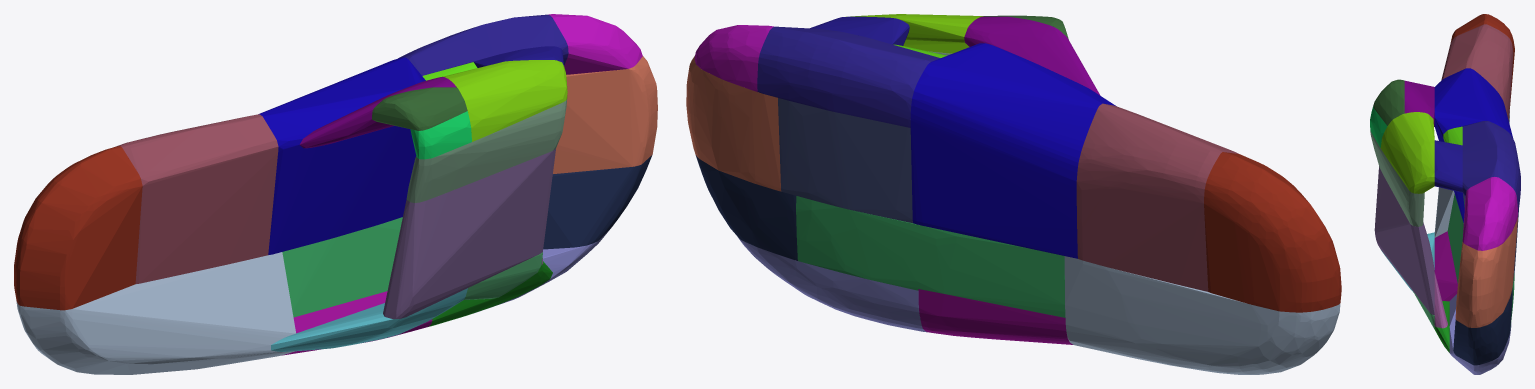
File: coacd_collision.obj
The picture shows the model from 3 angles, left to right: view 1: azimuth 30°, elevation 25°; view 2: azimuth 150°, elevation 25°; view 3: azimuth 270°, elevation 25°; orthographic projection. The views are drawn at different scales.
Parts seen in each view (by area): view 1: geometry_6, geometry_13, geometry_5, geometry_1, geometry_15, geometry_9, geometry_10, geometry_0, geometry_4, geometry_21, geometry_18, geometry_2 (+9 smaller); view 2: geometry_5, geometry_13, geometry_6, geometry_10, geometry_15, geometry_16, geometry_18, geometry_9, geometry_12, geometry_14, geometry_21, geometry_11 (+3 smaller); view 3: geometry_9, geometry_1, geometry_5, geometry_4, geometry_13, geometry_18, geometry_22, geometry_21, geometry_0, geometry_20, geometry_14, geometry_19 (+11 smaller).
Boxes of the visible parts, x1,y1,x2,y2 form: geometry_6: (16,252,295,374); geometry_13: (116,114,278,283); geometry_5: (258,57,425,254); geometry_1: (383,148,555,319); geometry_15: (14,146,142,310); geometry_9: (553,56,657,173); geometry_10: (282,217,402,317); geometry_0: (406,99,567,202); geometry_4: (443,60,567,141); geometry_21: (543,155,652,249); geometry_18: (398,14,568,75); geometry_2: (271,288,467,351); geometry_5: (910,43,1116,258); geometry_13: (1076,103,1238,291); geometry_6: (1064,256,1340,374); geometry_10: (796,196,1065,317); geometry_15: (1204,152,1341,312); geometry_16: (778,98,912,223); geometry_18: (757,26,940,127); geometry_9: (686,56,781,191); geometry_12: (737,236,926,332); geometry_14: (918,289,1072,344); geometry_21: (695,155,797,260); geometry_11: (964,16,1100,95); geometry_9: (1455,217,1517,327); geometry_1: (1374,166,1434,314); geometry_5: (1434,68,1513,222); geometry_4: (1380,112,1434,193); geometry_13: (1441,24,1513,120); geometry_18: (1462,121,1520,215); geometry_22: (1462,177,1517,250); geometry_21: (1453,288,1512,365); geometry_0: (1370,131,1424,226); geometry_20: (1434,140,1462,192); geometry_14: (1434,231,1457,301); geometry_19: (1373,79,1404,125).
Bounding box in the file's own units: 278 × 118 × 71.46.
